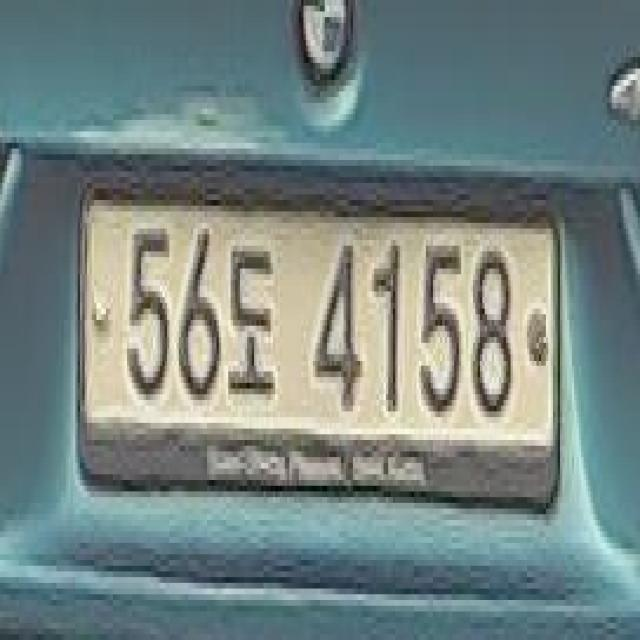illegal_plate: (81, 180, 565, 528)
